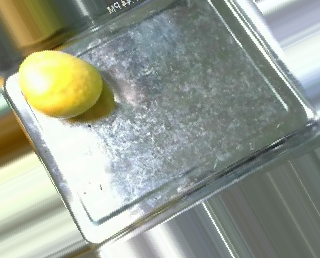Mango: (18, 49, 103, 120)
